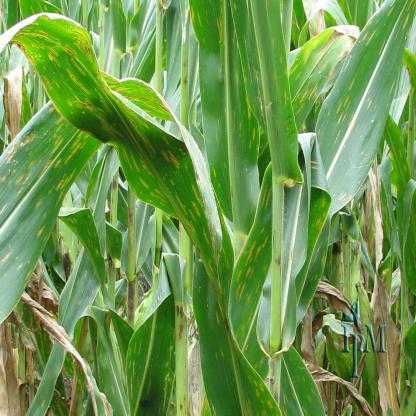Corn Gray leaf spot: (5, 4, 240, 297), (312, 3, 416, 240), (0, 98, 109, 308)
